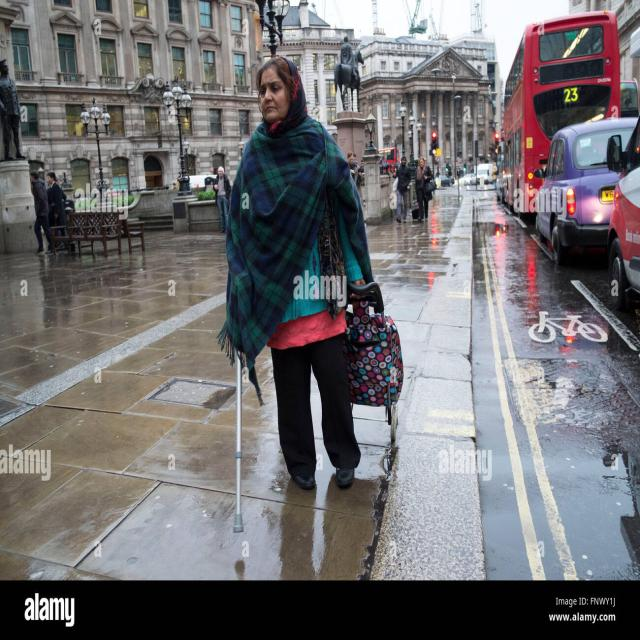Car: (505, 12, 623, 217), (536, 114, 637, 268), (606, 95, 640, 312), (534, 84, 612, 140), (502, 56, 526, 215), (181, 173, 223, 192), (620, 79, 638, 118), (378, 147, 401, 174), (475, 163, 495, 186), (495, 151, 504, 198), (459, 173, 477, 186), (438, 174, 454, 187)
Walking: (327, 19, 360, 126), (46, 172, 66, 251), (214, 166, 232, 233), (341, 152, 358, 215)
human: (256, 56, 301, 127), (296, 270, 346, 305), (392, 155, 410, 222), (413, 156, 431, 222), (352, 151, 366, 207)
loitering: (211, 54, 404, 560), (223, 62, 349, 497), (0, 59, 27, 165), (31, 170, 54, 254)
